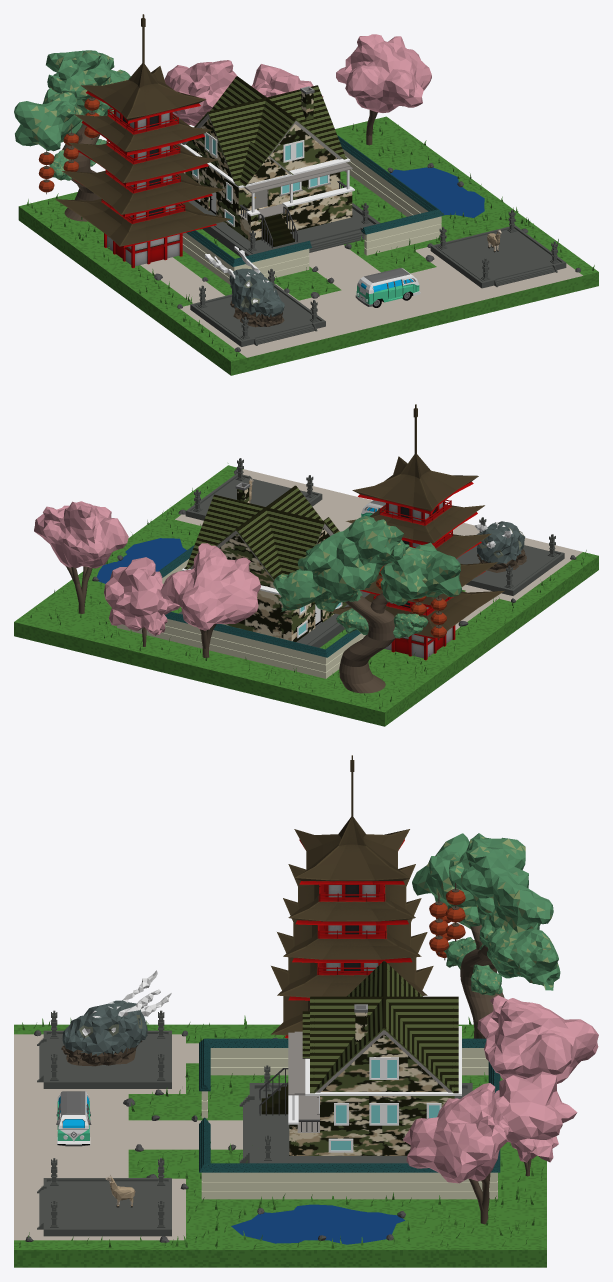
3 renders of one model, top to bottom at view 1: azimuth 30°, elevation 25°; view 2: azimuth 150°, elevation 25°; view 3: azimuth 270°, elevation 25°, orthographic. The views are drawn at different scales.
Parts seen in each view (by area): view 1: Cube.005, Cube.001, OBJRANDOM_METEORITE, VEHICLES_VAN; view 2: Cube.005, Cube.001, OBJRANDOM_METEORITE; view 3: Cube.005, Cube.001, OBJRANDOM_METEORITE, VEHICLES_VAN.
Part boxes in pixels (x1=…): Cube.005: x1=14, y1=14, x2=598, y2=375; Cube.001: x1=179, y1=76, x2=354, y2=248; OBJRANDOM_METEORITE: x1=205, y1=246, x2=284, y2=327; VEHICLES_VAN: x1=355, y1=268, x2=420, y2=307; Cube.005: x1=14, y1=404, x2=598, y2=726; Cube.001: x1=181, y1=482, x2=346, y2=641; OBJRANDOM_METEORITE: x1=474, y1=521, x2=526, y2=572; Cube.005: x1=14, y1=755, x2=598, y2=1267; Cube.001: x1=259, y1=961, x2=461, y2=1155; OBJRANDOM_METEORITE: x1=61, y1=970, x2=171, y2=1066; VEHICLES_VAN: x1=56, y1=1091, x2=91, y2=1146.
Bounding box in the file's own units: 4528 × 2690 × 4389.
Materials: 46 (7 with a texture image).
